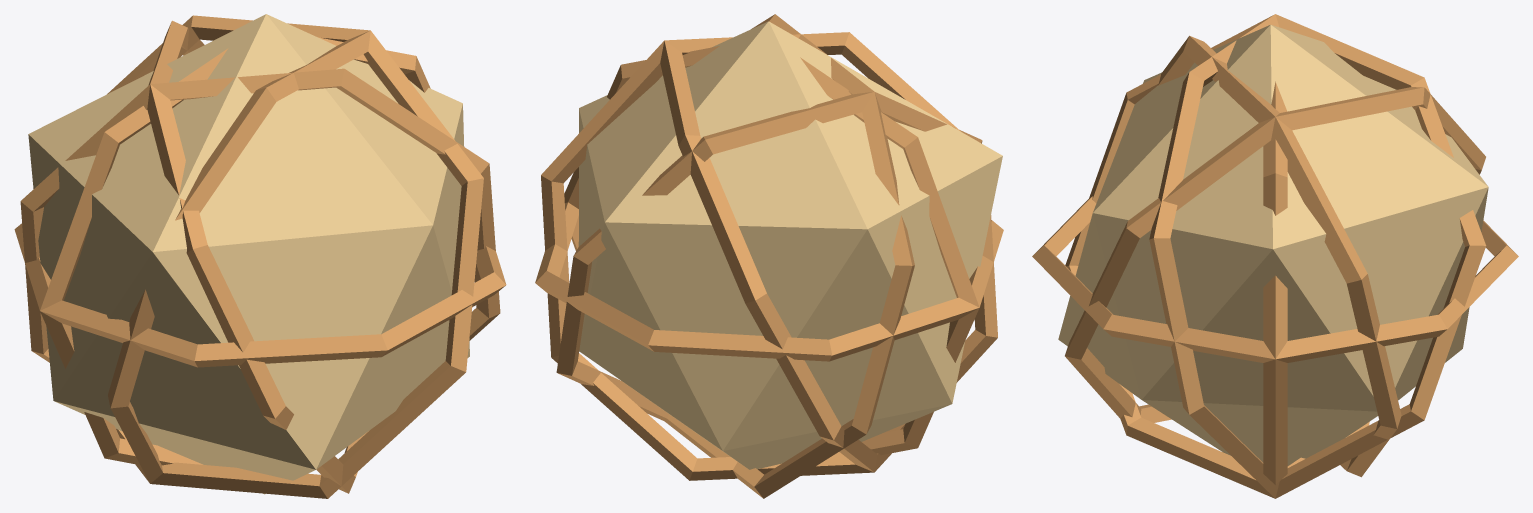
File: Tumbleweed.fbx
The picture shows the model from 3 angles, left to right: view 1: azimuth 30°, elevation 25°; view 2: azimuth 150°, elevation 25°; view 3: azimuth 270°, elevation 25°; orthographic projection. The views are drawn at different scales.
Parts seen in each view (by area): view 1: Tumbleweed; view 2: Tumbleweed; view 3: Tumbleweed.
Part boxes in pixels (<box>): Tumbleweed: <box>14,14,506,498</box>; Tumbleweed: <box>535,14,1003,498</box>; Tumbleweed: <box>1032,14,1518,498</box>.
Bounding box in the file's own units: 2 × 2.09 × 2.
Materials: 1 (1 with a texture image).
